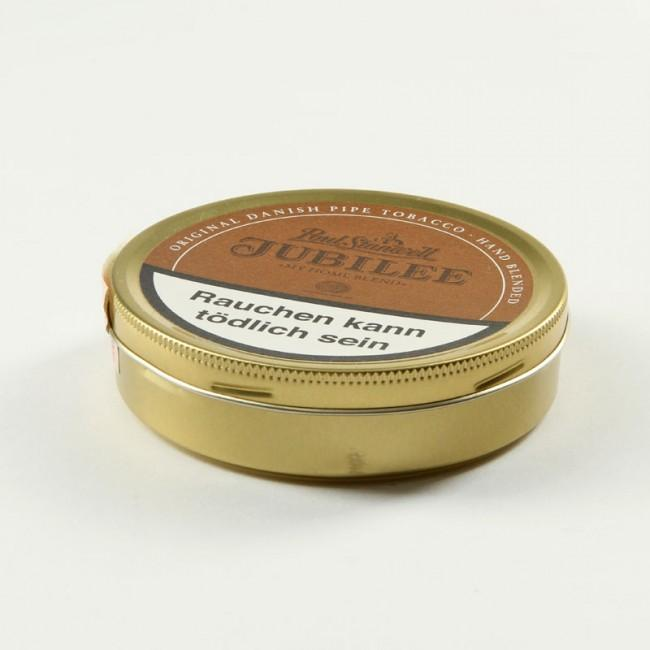metal: (104, 190, 570, 478)
